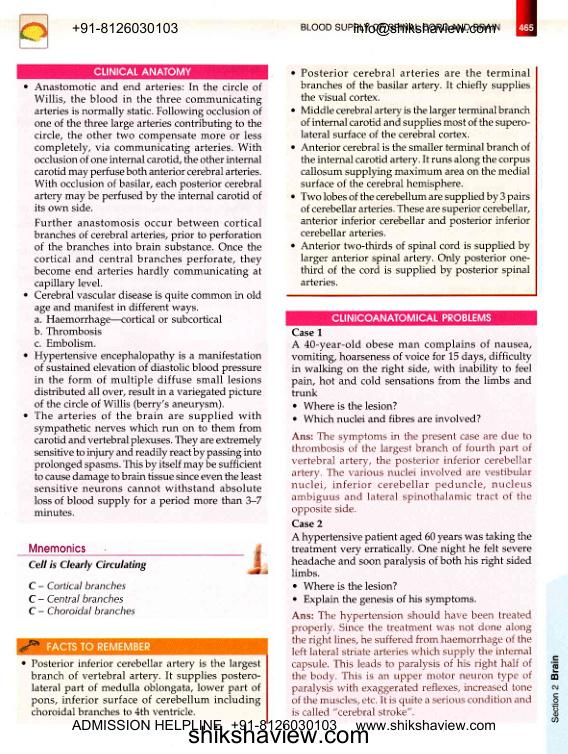caption: (331, 313, 493, 324), (46, 641, 151, 652), (93, 66, 192, 77)
list: (20, 80, 263, 519), (289, 66, 532, 288), (20, 656, 263, 718), (290, 580, 478, 607), (291, 399, 482, 425), (25, 579, 139, 619)
sub-section-heading: (27, 542, 86, 554), (291, 518, 324, 529), (290, 327, 322, 338)
text: (289, 609, 534, 719), (290, 430, 534, 517), (290, 338, 531, 397), (291, 530, 533, 578), (27, 558, 147, 573)
